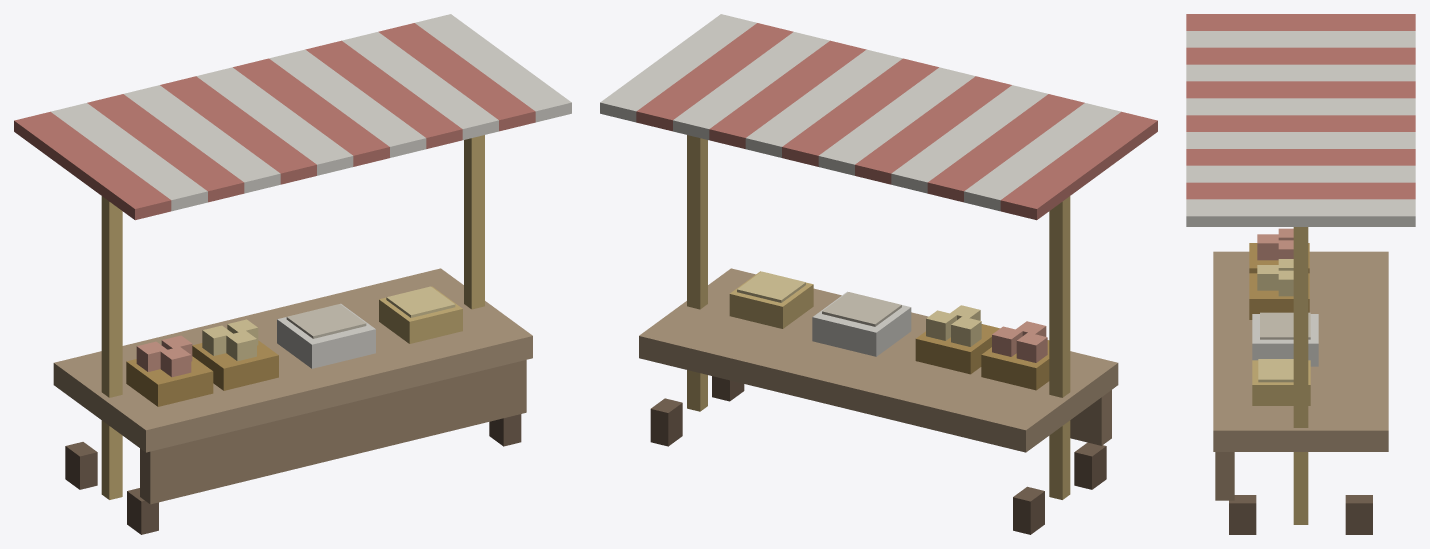
Rendered from stragan.glb.
3 views of the same model, side by side, from view 1: azimuth 30°, elevation 25°; view 2: azimuth 150°, elevation 25°; view 3: azimuth 270°, elevation 25° (orthographic). The views are drawn at different scales.
Visible parts, largest first — view 1: part_6, part_7, part_8, part_0, part_10, part_19, part_9, part_11, part_17, part_12, part_13, part_15 (+17 smaller); view 2: part_6, part_8, part_0, part_10, part_19, part_9, part_11, part_17, part_12, part_13, part_15, part_18 (+17 smaller); view 3: part_6, part_19, part_3, part_10, part_11, part_12, part_13, part_17, part_18, part_8, part_9, part_14 (+15 smaller).
Part boxes in pixels (left/top/right/bottom): part_6: left=53, top=268, right=532, bottom=452; part_7: left=140, top=360, right=526, bottom=504; part_8: left=14, top=111, right=171, bottom=220; part_0: left=101, top=196, right=122, bottom=499; part_10: left=87, top=94, right=244, bottom=202; part_19: left=415, top=14, right=571, bottom=122; part_9: left=51, top=103, right=207, bottom=211; part_11: left=124, top=85, right=280, bottom=193; part_17: left=342, top=32, right=498, bottom=140; part_12: left=160, top=76, right=316, bottom=184; part_13: left=196, top=67, right=353, bottom=175; part_15: left=269, top=49, right=426, bottom=157; part_6: left=639, top=268, right=1118, bottom=452; part_8: left=1000, top=111, right=1157, bottom=220; part_0: left=1049, top=196, right=1070, bottom=499; part_10: left=927, top=94, right=1084, bottom=202; part_19: left=600, top=14, right=756, bottom=122; part_9: left=964, top=103, right=1120, bottom=211; part_11: left=891, top=85, right=1047, bottom=193; part_17: left=673, top=32, right=829, bottom=140; part_12: left=855, top=76, right=1011, bottom=184; part_13: left=818, top=67, right=975, bottom=175; part_15: left=745, top=49, right=902, bottom=157; part_18: left=636, top=23, right=793, bottom=131; part_6: left=1213, top=251, right=1388, bottom=451; part_19: left=1186, top=199, right=1415, bottom=226; part_3: left=1293, top=227, right=1308, bottom=524; part_10: left=1186, top=47, right=1415, bottom=64; part_11: left=1186, top=64, right=1415, bottom=81; part_12: left=1186, top=81, right=1415, bottom=98; part_13: left=1186, top=98, right=1415, bottom=115; part_17: left=1186, top=165, right=1415, bottom=182; part_18: left=1186, top=182, right=1415, bottom=199; part_8: left=1186, top=14, right=1415, bottom=30; part_9: left=1186, top=31, right=1415, bottom=47; part_14: left=1186, top=115, right=1415, bottom=131.
Bounding box in the file's own units: 2.46 × 1.88 × 1.18.
